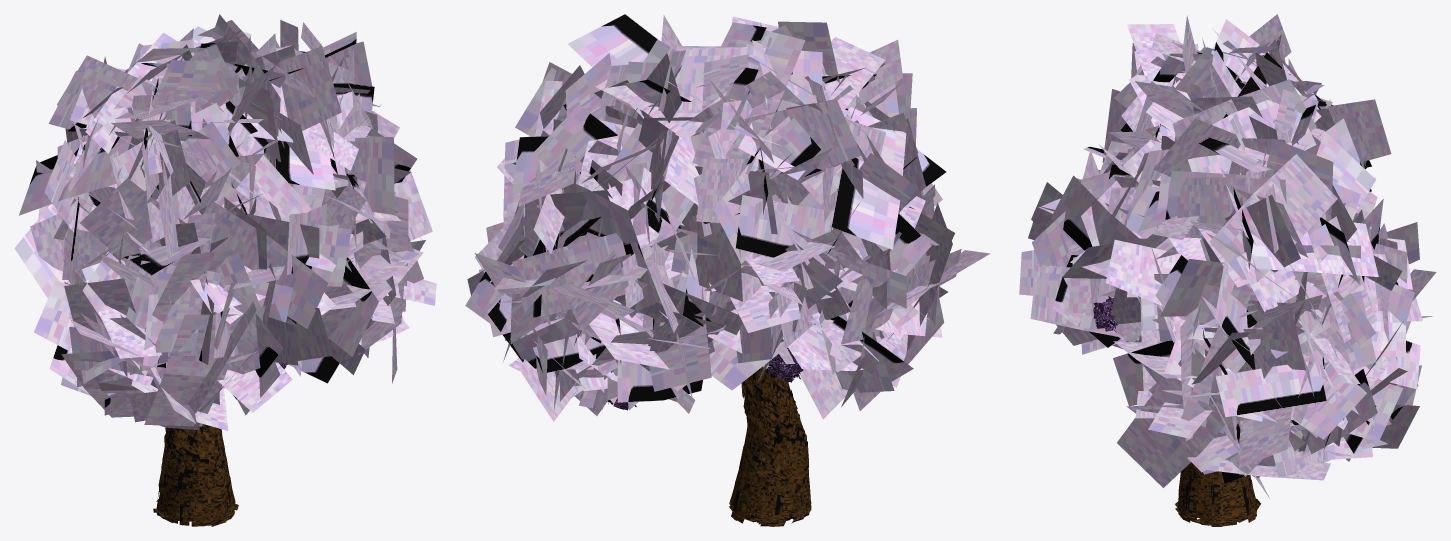
File: FBX-Tree3.fbx
3 views of the same model, side by side, from view 1: azimuth 30°, elevation 25°; view 2: azimuth 150°, elevation 25°; view 3: azimuth 270°, elevation 25° (orthographic). The views are drawn at different scales.
Visible parts, largest first — view 1: TreeLeaves.002, TreeTrunk.002; view 2: TreeLeaves.002, TreeTrunk.002, Crystal_Small.006; view 3: TreeLeaves.002, TreeTrunk.002, Crystal_Small.007.
Part boxes in pixels (bbox=[...]): TreeLeaves.002: bbox=[14, 14, 436, 430]; TreeTrunk.002: bbox=[153, 424, 238, 526]; TreeLeaves.002: bbox=[465, 14, 990, 421]; TreeTrunk.002: bbox=[729, 366, 811, 526]; Crystal_Small.006: bbox=[767, 348, 803, 382]; TreeLeaves.002: bbox=[1019, 14, 1436, 499]; TreeTrunk.002: bbox=[1175, 462, 1260, 526]; Crystal_Small.007: bbox=[1093, 296, 1117, 332].
Size of the model in its own units: 1208 by 1334 by 1056.
5 materials, 5 textured.
